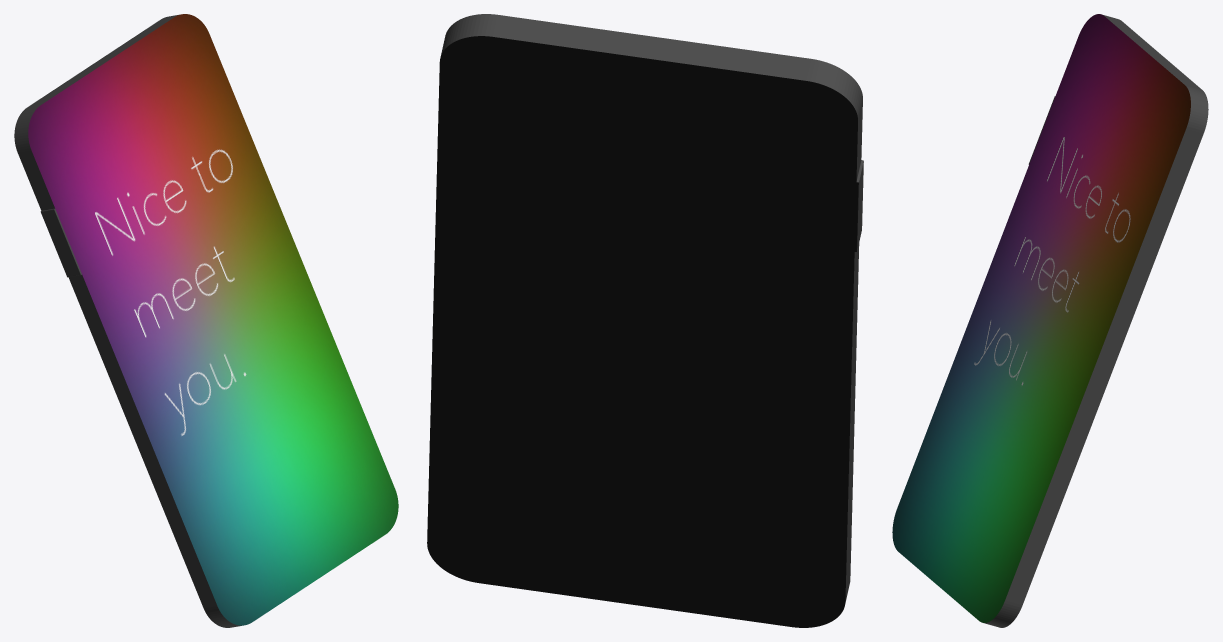
The picture shows the model from 3 angles, left to right: view 1: azimuth 30°, elevation 25°; view 2: azimuth 150°, elevation 25°; view 3: azimuth 270°, elevation 25°; orthographic projection. The views are drawn at different scales.
Visible parts, largest first — view 1: Plane; view 2: Plane; view 3: Plane.
Boxes of the visible parts, x1,y1,x2,y2 form: Plane: (14,14,398,627); Plane: (427,14,863,627); Plane: (892,14,1208,627).
Size of the model in its own units: 2.69 by 3.8 by 2.15.
4 materials, 1 textured.
